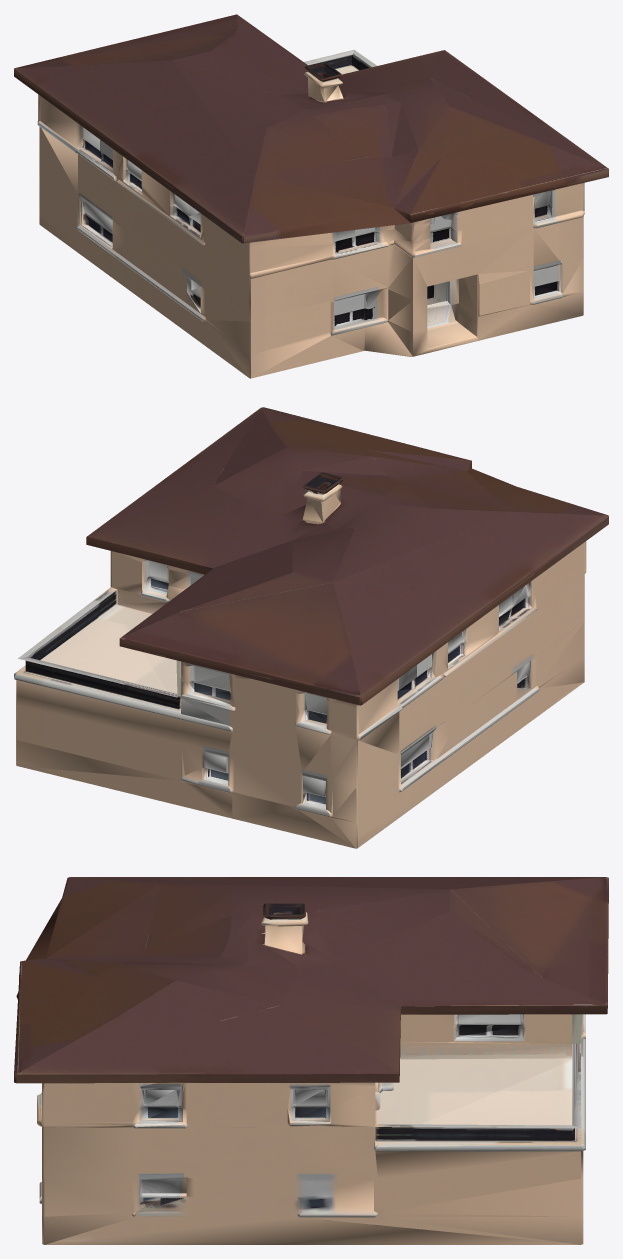
The model's file is placed_bld_556855842.glb.
The picture shows the model from 3 angles, top to bottom: view 1: azimuth 30°, elevation 25°; view 2: azimuth 150°, elevation 25°; view 3: azimuth 270°, elevation 25°; orthographic projection. The views are drawn at different scales.
Parts seen in each view (by area): view 1: bld_556855842; view 2: bld_556855842; view 3: bld_556855842.
Boxes of the visible parts, <box> form: bld_556855842: <box>14,14,608,378</box>; bld_556855842: <box>14,407,608,848</box>; bld_556855842: <box>14,877,608,1244</box>.
Bounding box in the file's own units: 14.16 × 8.2 × 18.
Materials: 1 (1 with a texture image).
